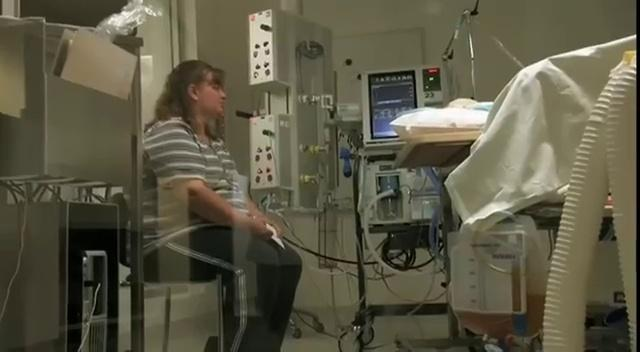others: (141, 58, 303, 351)
patient: (390, 82, 500, 179)
